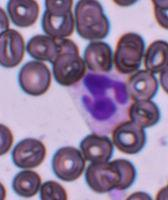N: (68, 68, 130, 134)
